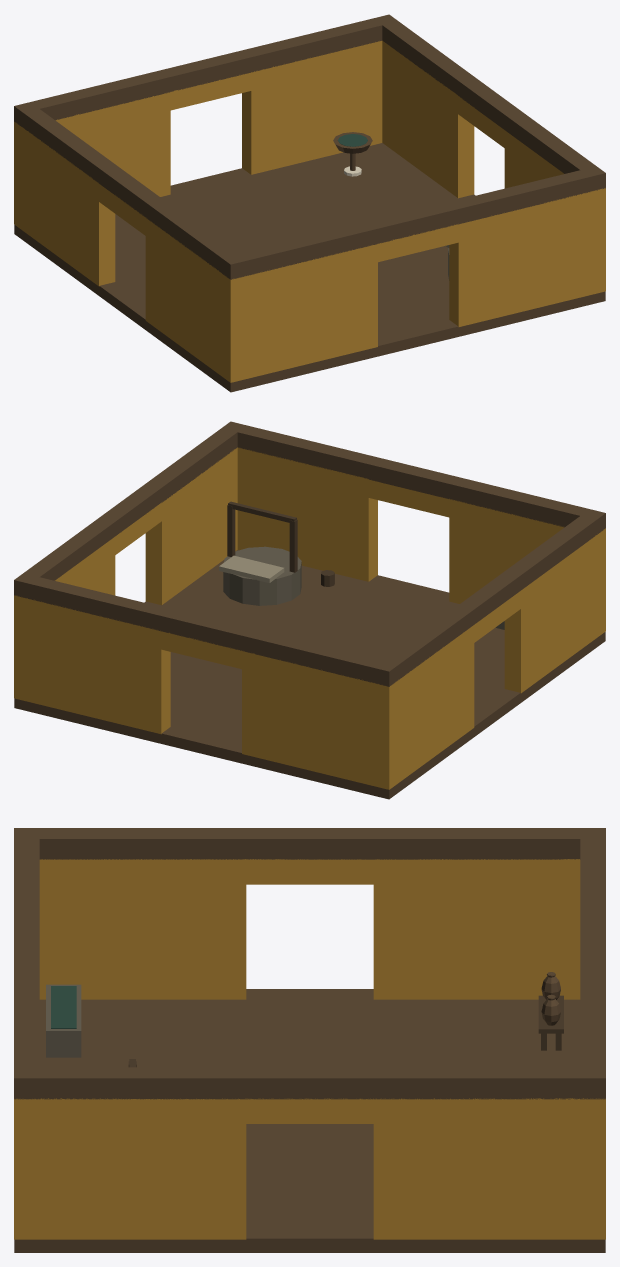
File: BronzeCistern.fbx
3 renders of one model, top to bottom at view 1: azimuth 30°, elevation 25°; view 2: azimuth 150°, elevation 25°; view 3: azimuth 270°, elevation 25°, orthographic. The views are drawn at different scales.
Parts seen in each view (by area): view 1: BronzeCistern; view 2: BronzeCistern; view 3: BronzeCistern.
Boxes of the visible parts, left/top/right/bottom form: BronzeCistern: left=14, top=14, right=605, bottom=392; BronzeCistern: left=14, top=421, right=605, bottom=799; BronzeCistern: left=14, top=828, right=605, bottom=1252.
Size of the model in its own units: 1202 by 392 by 1202.
7 materials, 7 textured.
